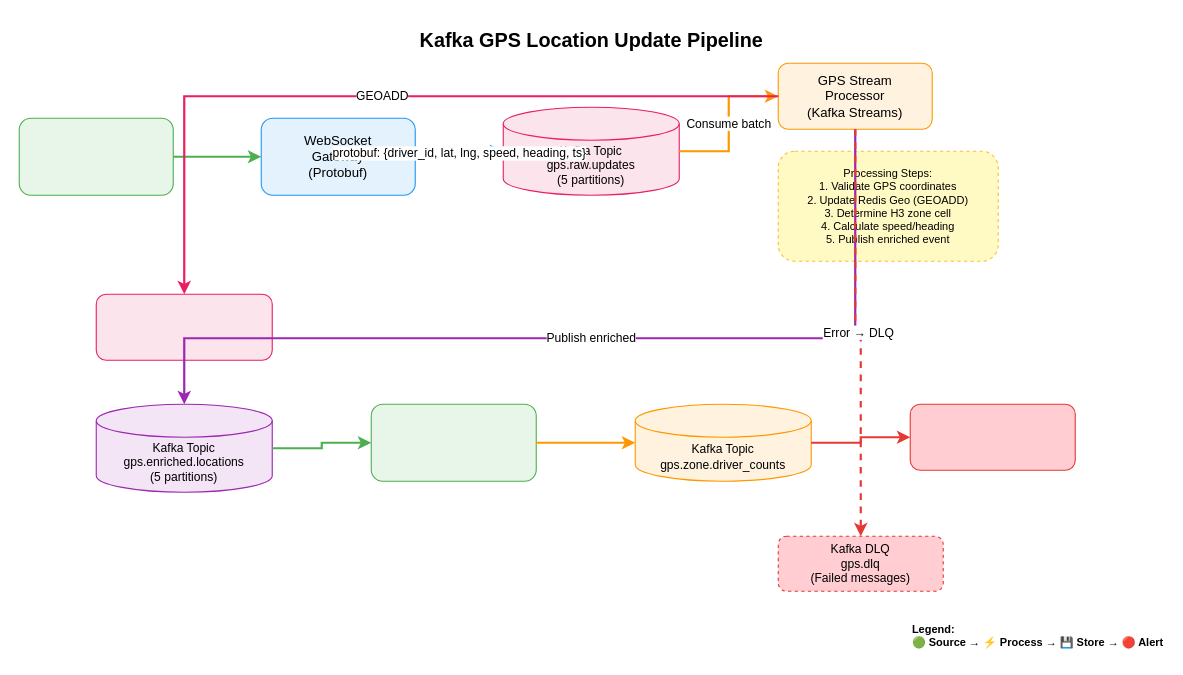
Image size: 1183x675. Some labels were removed from this diagram. The centre of each missing label's shape, as x and y in pixels:
"Driver App GPS Update (Every 3s)" belongs at (x=95, y=156).
"Redis Geo drivers:available (Real-time)" belongs at (x=183, y=326).
"Surge Engine Calculate Multiplier" belongs at (x=992, y=436).
"Zone Analytics Aggregator (30s window)" belongs at (x=453, y=442).
